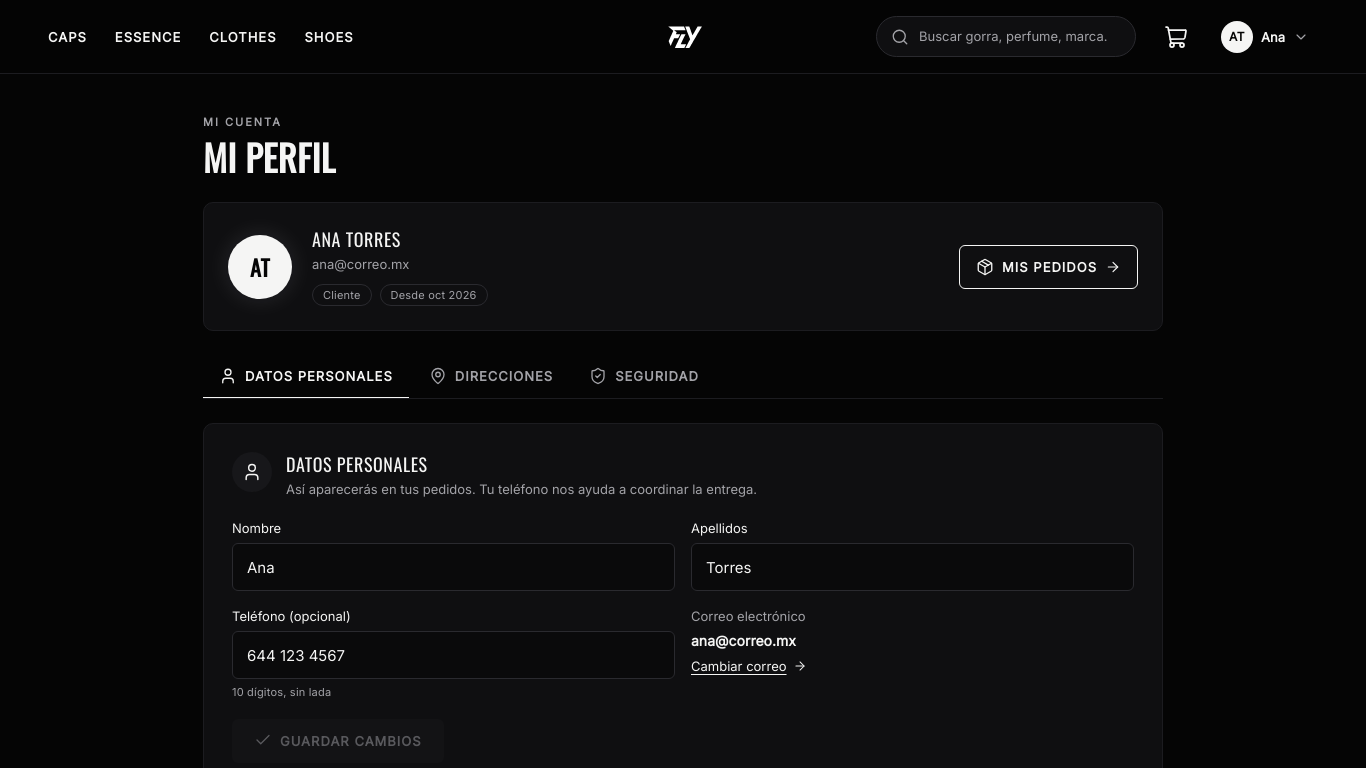
Scenario: Mi perfil › Datos personales: muestra los datos, habilita guardar solo con cambios y confirma
Expected: the button "Guardar cambios" is disabled, top-left (232, 719), bottom-right (444, 763)
Replace the text in the field labelled "Nombre" with "Ana María" at (454, 567), box top-left (232, 543), bottom-right (675, 591)
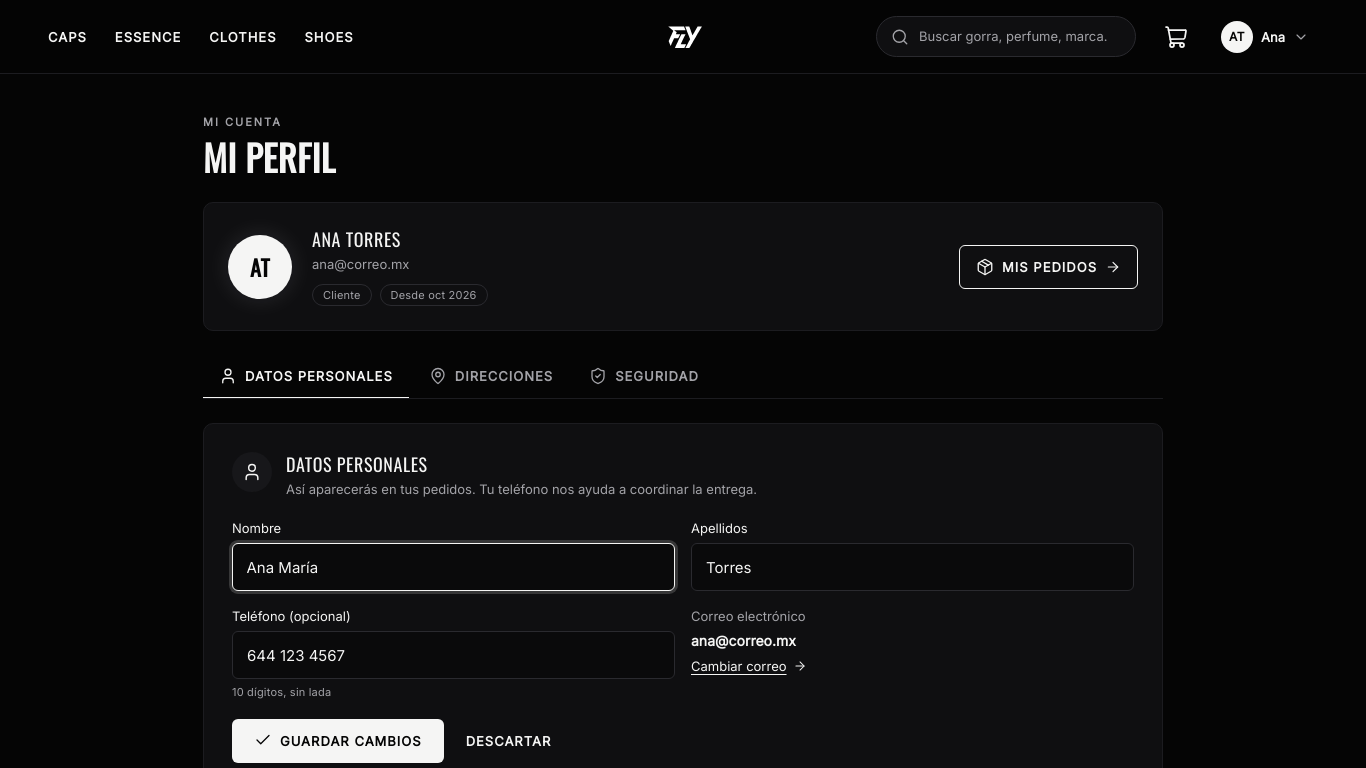
Expected: the button "Guardar cambios" is enabled
Click the button "Guardar cambios".
click(338, 741)  # box top-left (232, 719), bottom-right (444, 763)
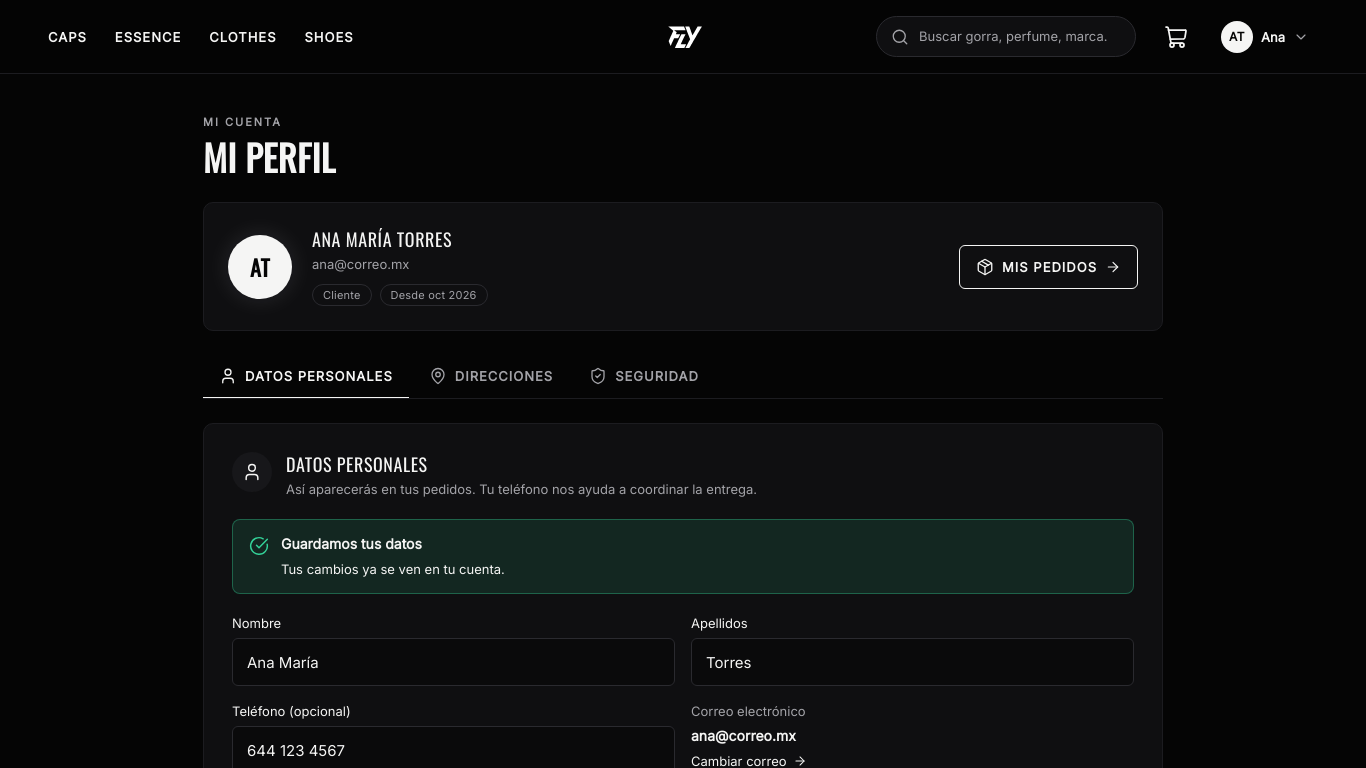
Expected: the text "Guardamos tus datos" is shown, top-left (281, 535), bottom-right (422, 552)
